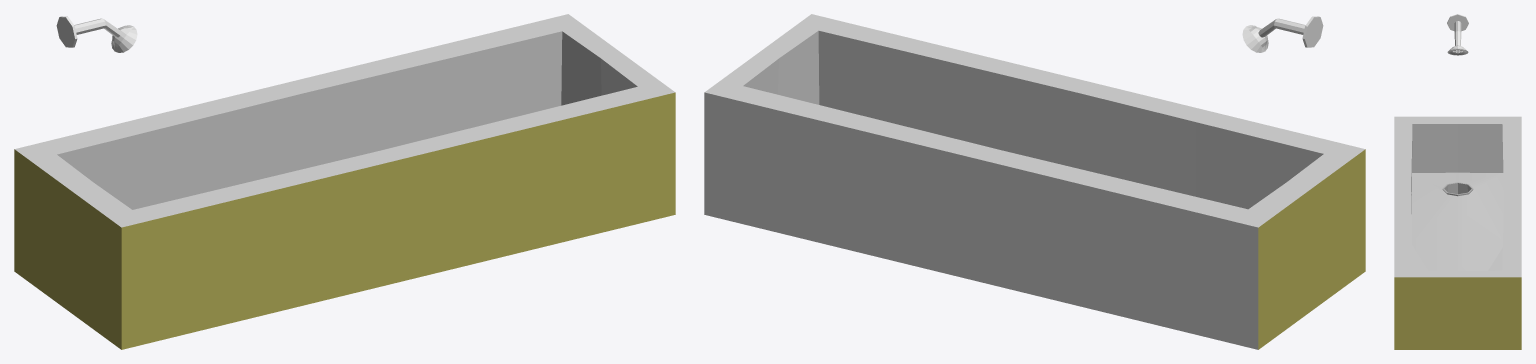
Rendered from Bathtub.fbx.
3 renders of one model, left to right at view 1: azimuth 30°, elevation 25°; view 2: azimuth 150°, elevation 25°; view 3: azimuth 270°, elevation 25°, orthographic. The views are drawn at different scales.
Parts seen in each view (by area): view 1: Shower, Shower.001; view 2: Shower, Shower.001; view 3: Shower, Shower.001.
Boxes of the visible parts, x1,y1,x2,y2 form: Shower: (14,14,675,349); Shower.001: (56,16,137,52); Shower: (704,14,1365,349); Shower.001: (1242,16,1323,52); Shower: (1394,116,1521,349); Shower.001: (1447,14,1468,55).
Bounding box in the file's own units: 3.51 × 1.78 × 1.17.
